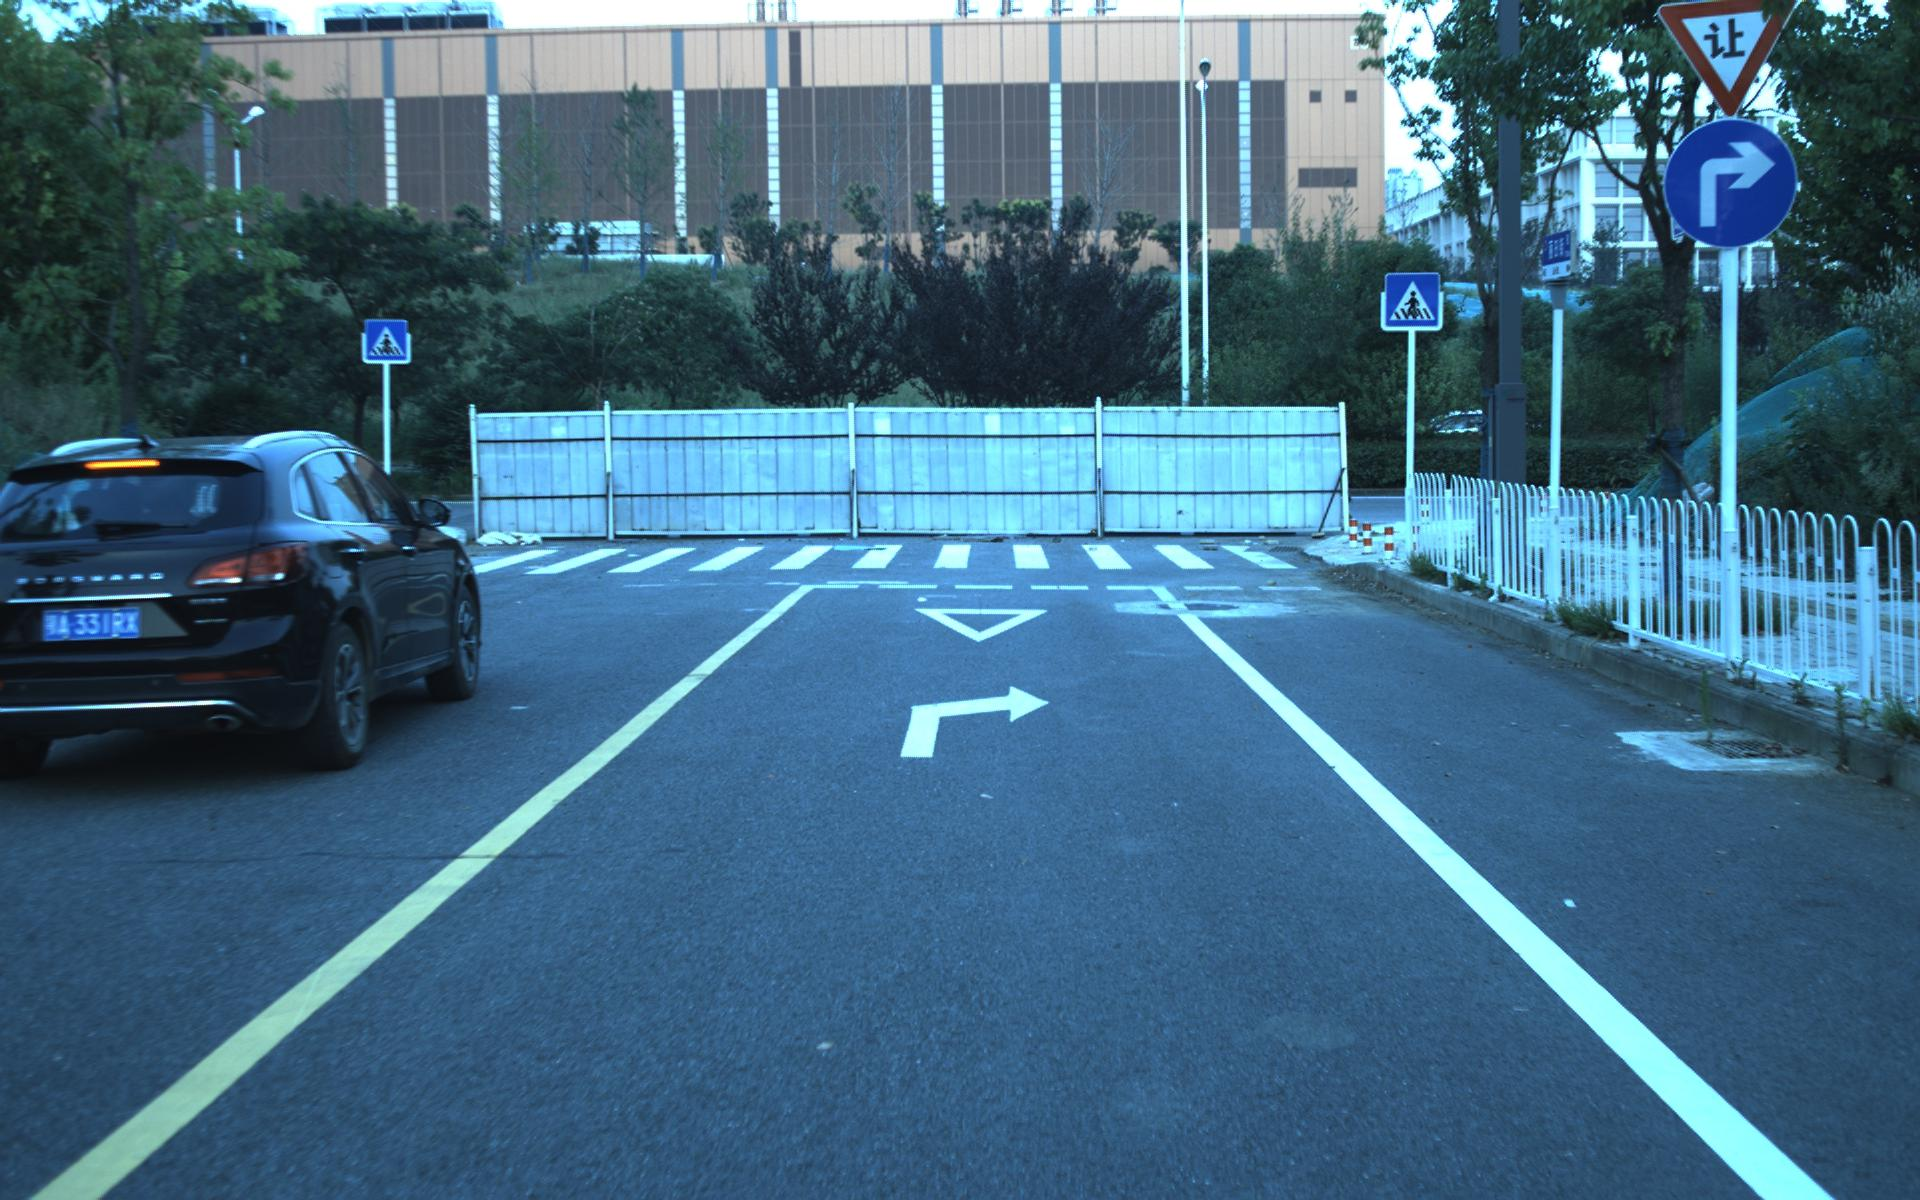Car: (6, 418, 493, 787)
